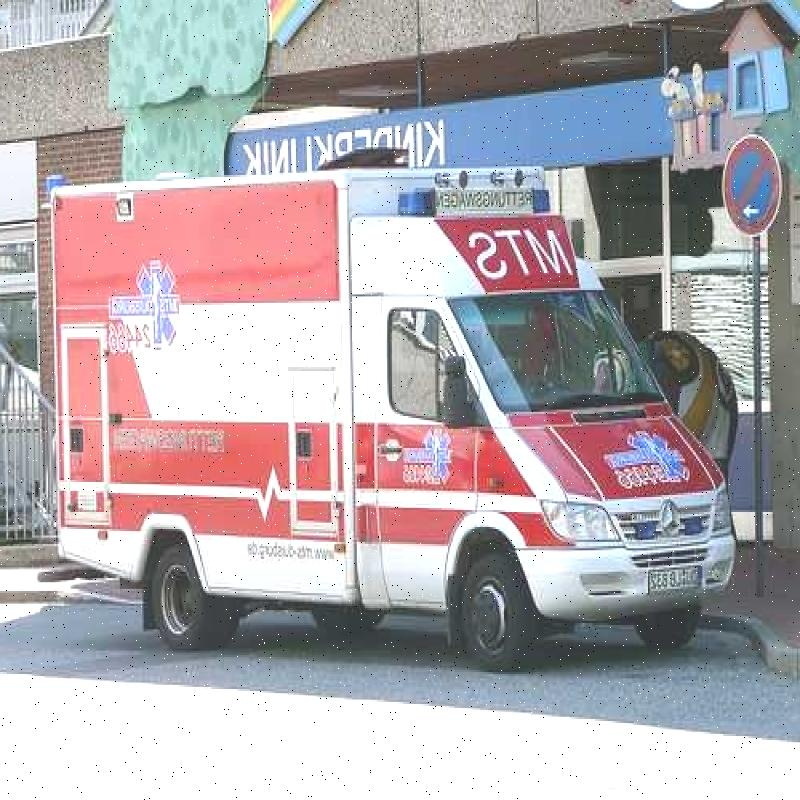AmbulanceSiren: (390, 178, 438, 232)
